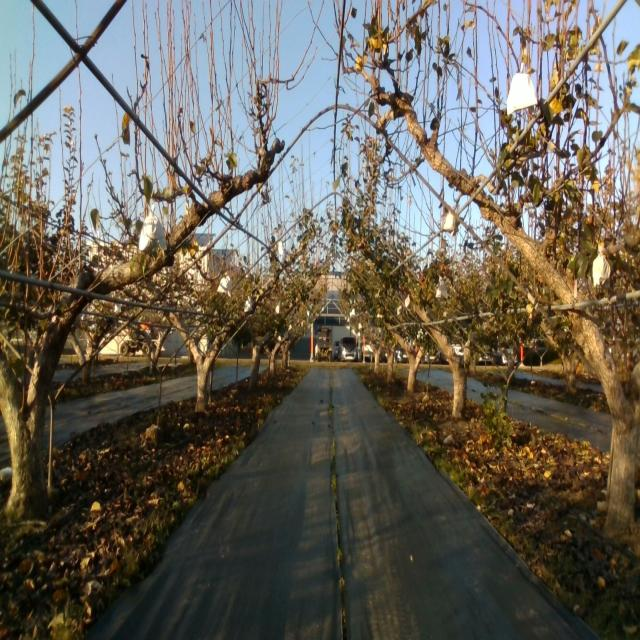pearbags: (507, 62, 538, 116), (139, 203, 168, 252), (592, 244, 611, 288), (216, 273, 232, 298), (443, 211, 456, 237), (435, 278, 448, 298)
